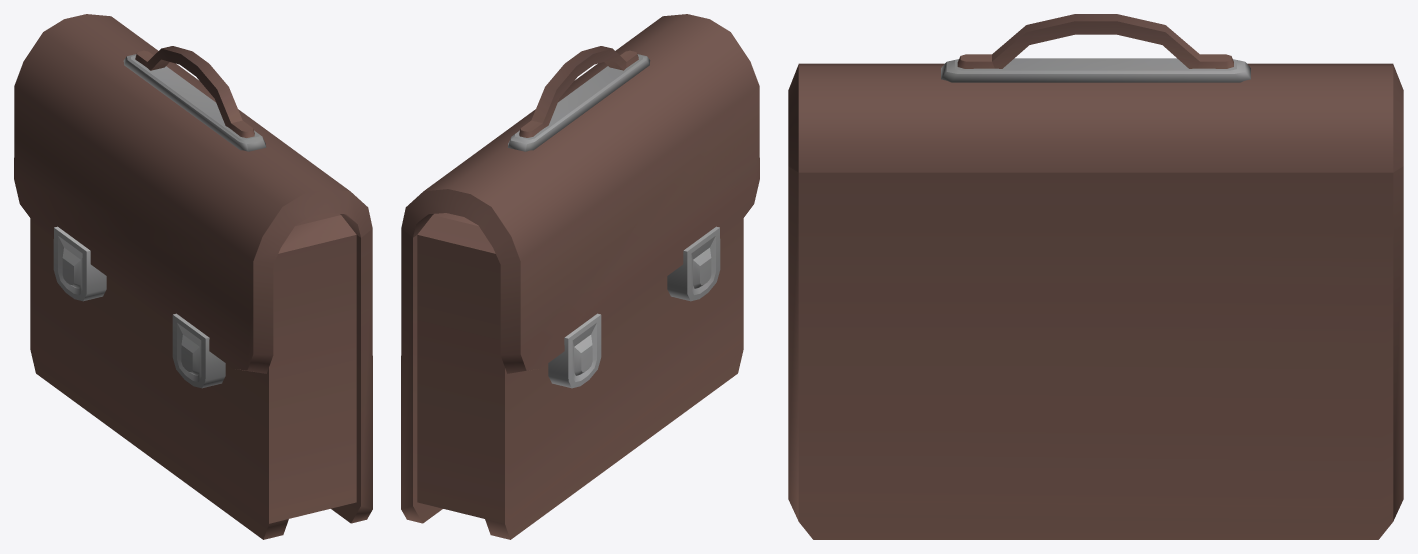
The model's file is Suitcase_1_1_A.glb.
The picture shows the model from 3 angles, left to right: view 1: azimuth 30°, elevation 25°; view 2: azimuth 150°, elevation 25°; view 3: azimuth 270°, elevation 25°; orthographic projection. The views are drawn at different scales.
Parts seen in each view (by area): view 1: Suitcase_1_1_A; view 2: Suitcase_1_1_A; view 3: Suitcase_1_1_A.
Part boxes in pixels (<box>): Suitcase_1_1_A: <box>14,14,372,539</box>; Suitcase_1_1_A: <box>401,14,759,539</box>; Suitcase_1_1_A: <box>788,14,1403,539</box>.
Size of the model in its own units: 0.1604 by 0.4779 by 0.5473.
Materials: 2 (2 with a texture image).
